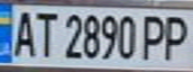0: (118, 11, 142, 61)
2: (60, 9, 84, 60)
8: (78, 10, 103, 61)
9: (100, 11, 121, 61)
A: (6, 7, 39, 58)
P: (157, 11, 193, 62), (136, 11, 172, 61)
T: (30, 7, 60, 58)
